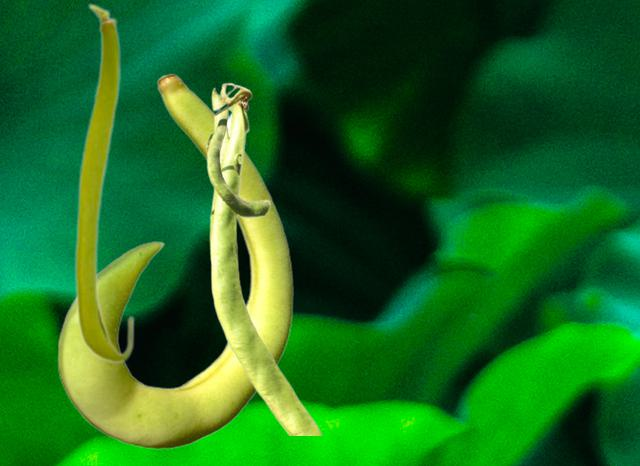french_bean: (57, 73, 293, 448), (205, 82, 321, 434), (73, 2, 134, 363)
